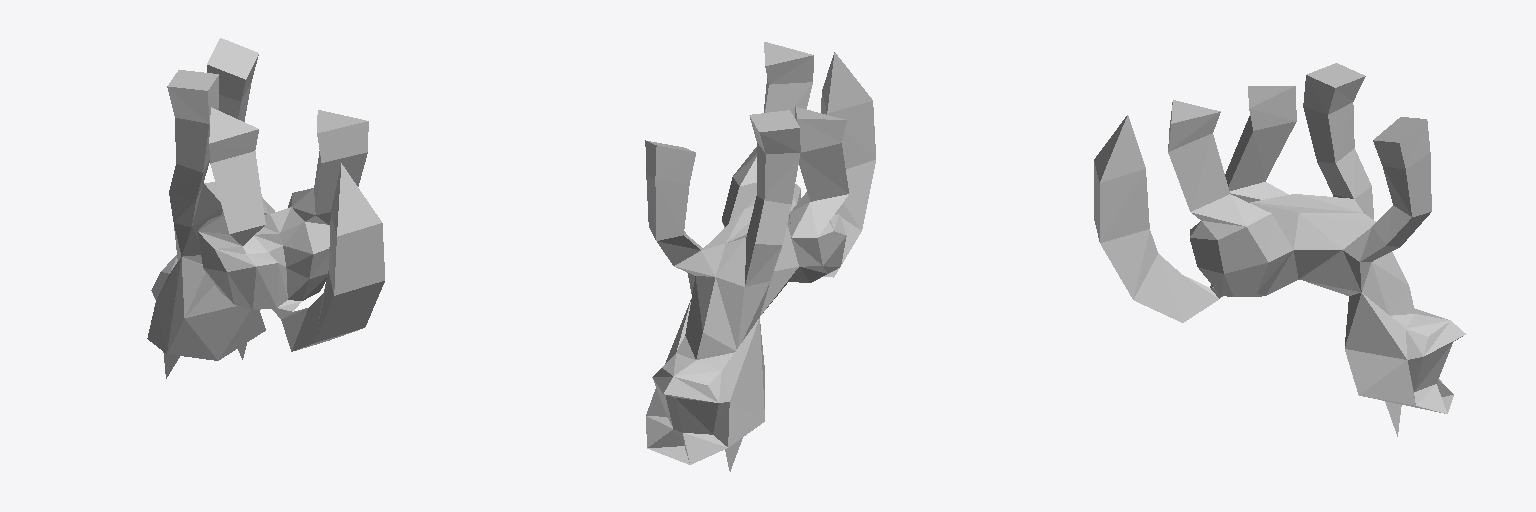
Rendered from PONY_000015.obj.
The picture shows the model from 3 angles: view 1: azimuth 30°, elevation 25°; view 2: azimuth 150°, elevation 25°; view 3: azimuth 270°, elevation 25°; orthographic projection.
Parts seen in each view (by area): view 1: pony; view 2: pony; view 3: pony.
Boxes of the visible parts, <box> form: pony: <box>147,38,384,378</box>; pony: <box>645,42,875,471</box>; pony: <box>1094,63,1465,436</box>.
Size of the model in its own units: 3.62 by 9.01 by 9.28.